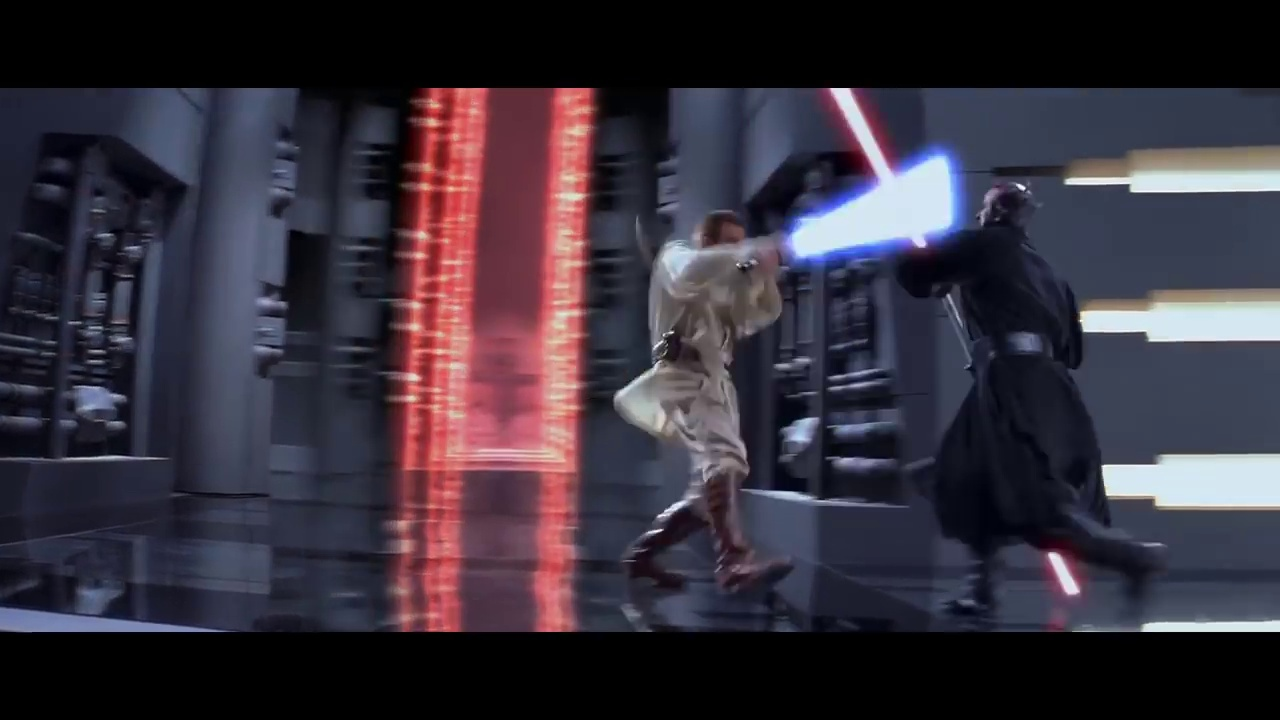lightsaber: (777, 152, 956, 268), (821, 88, 926, 252)
